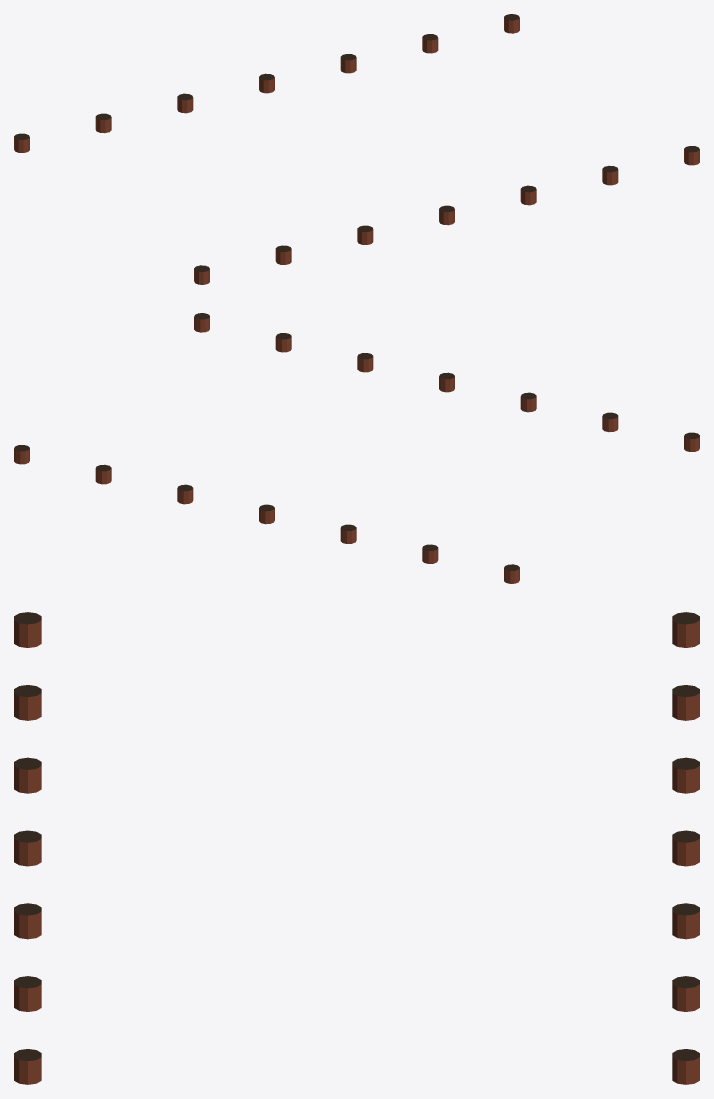
File: 1229-Buildings-shell-pieces-roof-terrace-emitTerrace-420-triangles-20-35-x-0-50-x-13-.glb
3 views of the same model, one above another, from view 1: azimuth 30°, elevation 25°; view 2: azimuth 150°, elevation 25°; view 3: azimuth 270°, elevation 25° (orthographic). The views are drawn at different scales.
Visible parts, largest first — view 1: emitTerrace; view 2: emitTerrace; view 3: emitTerrace.
Part boxes in pixels (left/top/right/bottom): emitTerrace: left=14, top=14, right=699, bottom=284; emitTerrace: left=14, top=313, right=699, bottom=583; emitTerrace: left=14, top=612, right=699, bottom=1084.
Bounding box in the file's own units: 20.35 × 0.5 × 13.13.
